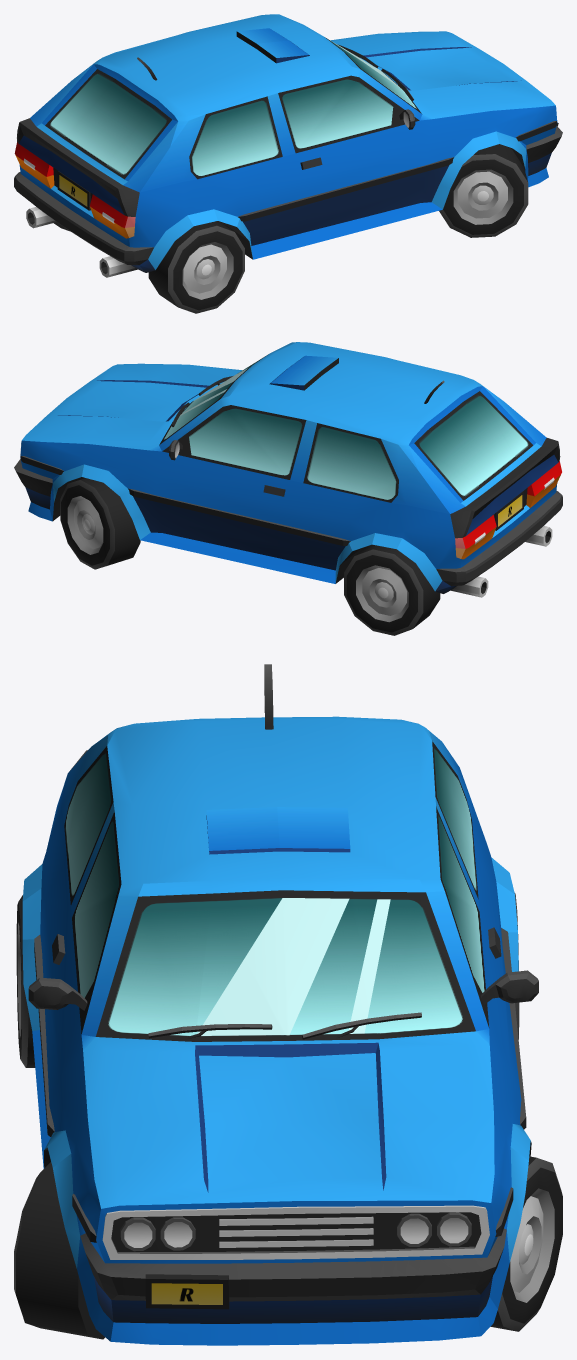
File: Car_028.glb
The picture shows the model from 3 angles, top to bottom: view 1: azimuth 30°, elevation 25°; view 2: azimuth 150°, elevation 25°; view 3: azimuth 270°, elevation 25°; orthographic projection. The views are drawn at different scales.
Parts seen in each view (by area): view 1: Car_028, wheel_3_Car_028_Wheel_2R, wheel_1_Car_028_Wheel_1R; view 2: Car_028, wheel_2_Car_028_Wheel_2L, wheel_0_Car_028_Wheel_1L; view 3: Car_028, wheel_1_Car_028_Wheel_1R, wheel_0_Car_028_Wheel_1L, wheel_3_Car_028_Wheel_2R.
Part boxes in pixels (x1,y1,x2,y2): Car_028: (14,14,562,277); wheel_3_Car_028_Wheel_2R: (148,221,244,313); wheel_1_Car_028_Wheel_1R: (439,144,528,237); Car_028: (14,342,562,597); wheel_2_Car_028_Wheel_2L: (344,544,440,635); wheel_0_Car_028_Wheel_1L: (60,478,140,569); Car_028: (22,664,538,1345); wheel_1_Car_028_Wheel_1R: (14,1162,105,1339); wheel_0_Car_028_Wheel_1L: (490,1156,562,1331); wheel_3_Car_028_Wheel_2R: (16,895,35,1067).
Bounding box in the file's own units: 4.17 × 1.77 × 2.25.
Materials: 1 (1 with a texture image).
